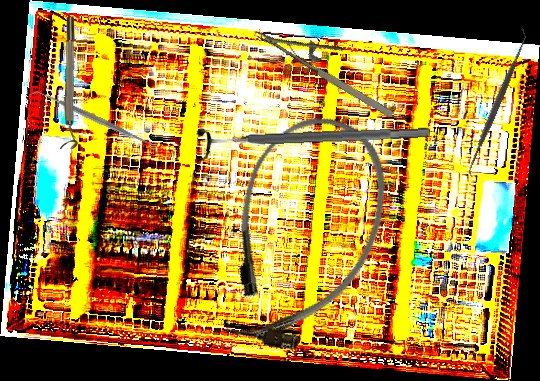Cannula: (194, 97, 411, 370)
Fixation Ring: (195, 114, 431, 164), (59, 16, 83, 150)
Needle Holder: (255, 4, 408, 122)
Spatula Surgical: (459, 26, 536, 179), (28, 82, 161, 155)
